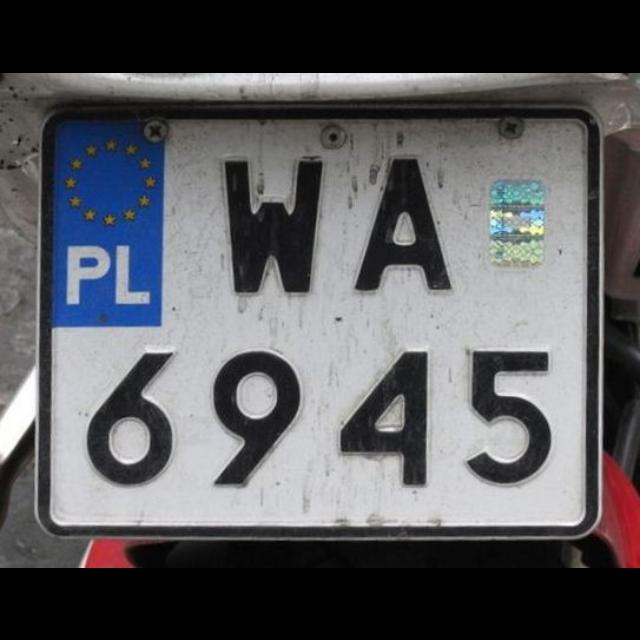pl_license_plate: (49, 111, 593, 529)
